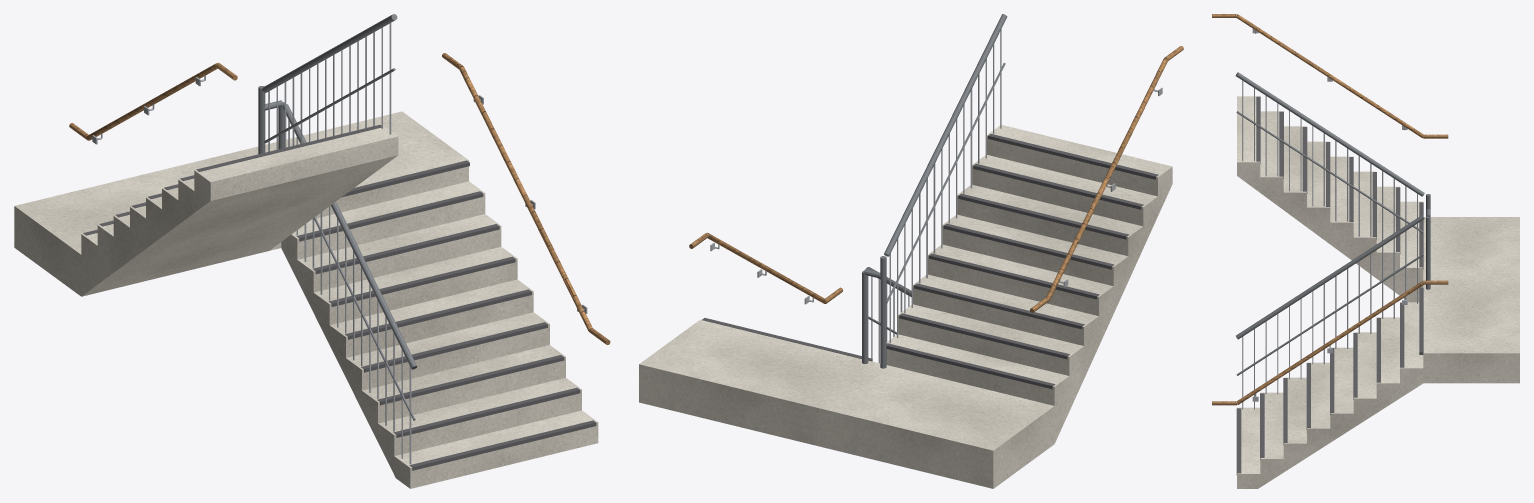
File: stair.glb
3 renders of one model, left to right at view 1: azimuth 30°, elevation 25°; view 2: azimuth 150°, elevation 25°; view 3: azimuth 270°, elevation 25°, orthographic. The views are drawn at different scales.
Visible parts, largest first — view 1: stair_terrazzo, stair_dark, stair_steel, stair_steel_d, stair_wood; view 2: stair_terrazzo, stair_dark, stair_steel_d, stair_steel, stair_wood; view 3: stair_terrazzo, stair_dark, stair_steel, stair_steel_d, stair_wood.
Boxes of the visible parts, left/top/right/bottom form: stair_terrazzo: left=14, top=111, right=598, bottom=488; stair_dark: left=83, top=124, right=596, bottom=470; stair_steel: left=92, top=22, right=587, bottom=464; stair_steel_d: left=258, top=14, right=417, bottom=420; stair_wood: left=69, top=53, right=610, bottom=344; stair_terrazzo: left=639, top=125, right=1172, bottom=488; stair_dark: left=702, top=134, right=1158, bottom=389; stair_steel_d: left=862, top=14, right=1007, bottom=368; stair_steel: left=710, top=29, right=1162, bottom=363; stair_wood: left=689, top=46, right=1183, bottom=312; stair_terrazzo: left=1237, top=96, right=1519, bottom=488; stair_dark: left=1236, top=96, right=1423, bottom=474; stair_steel: left=1242, top=29, right=1417, bottom=409; stair_steel_d: left=1235, top=72, right=1430, bottom=375; stair_wood: left=1212, top=14, right=1448, bottom=405.
Bounding box in the file's own units: 3.88 × 4.57 × 3.7.
Materials: 5 (2 with a texture image).
